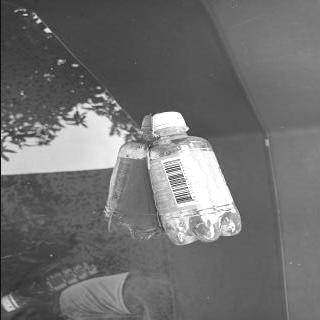bottle: (142, 111, 244, 247)
